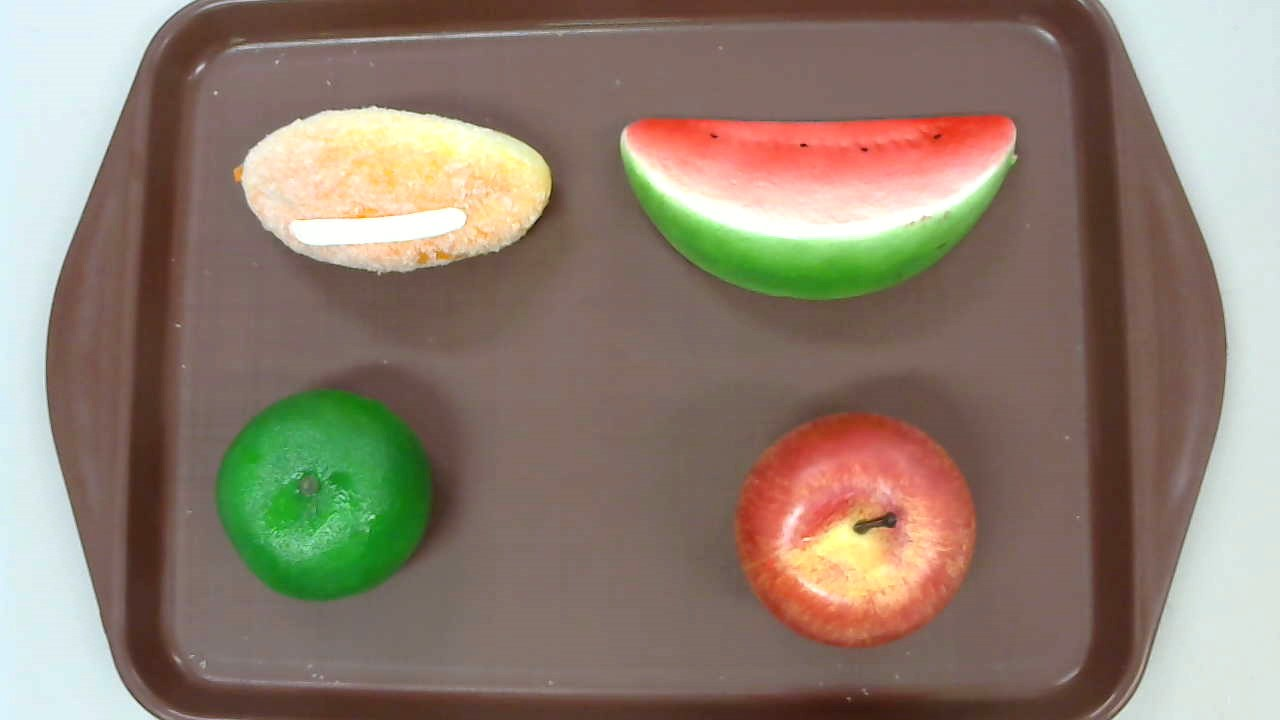coconut: (233, 105, 552, 277)
green orange: (216, 388, 433, 603)
red apple: (734, 410, 978, 648)
watermelon: (619, 109, 1019, 303)
